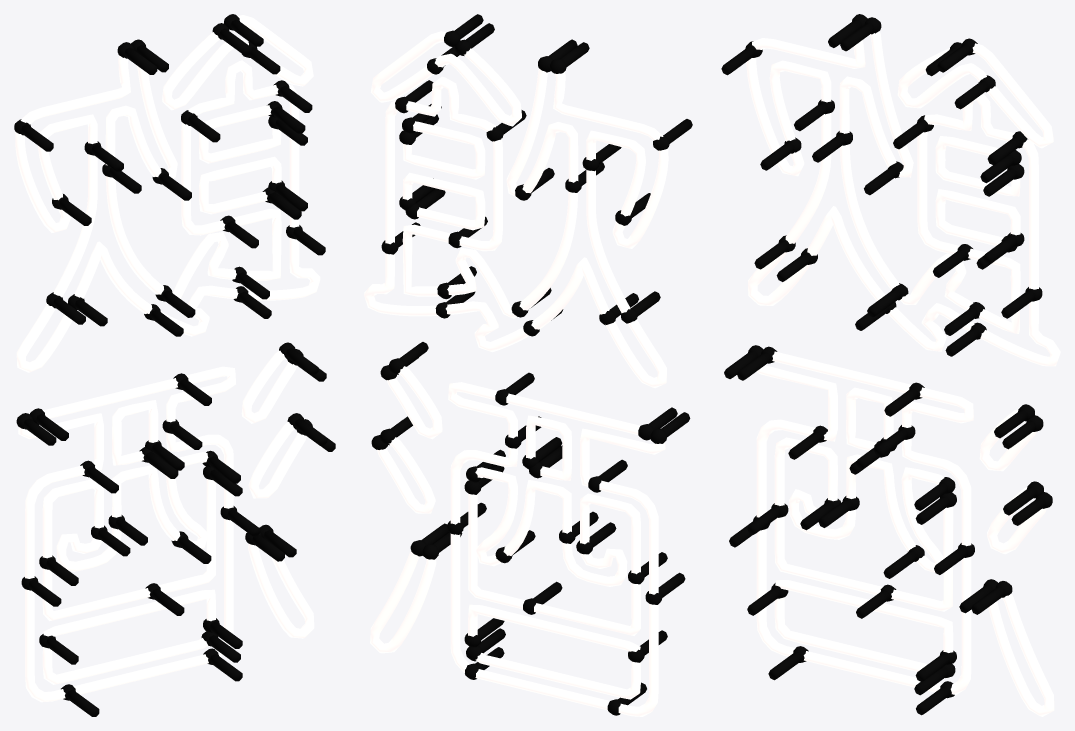
File: neon_insyu.fbx
The picture shows the model from 3 angles, left to right: view 1: azimuth 30°, elevation 25°; view 2: azimuth 150°, elevation 25°; view 3: azimuth 330°, elevation 25°; orthographic projection. The views are drawn at different scales.
Visible parts, largest first — view 1: NeonEnglish; view 2: NeonEnglish; view 3: NeonEnglish.
Part boxes in pixels (x1,y1,x2,y2): NeonEnglish: [14, 14, 335, 716]; NeonEnglish: [364, 14, 692, 716]; NeonEnglish: [721, 14, 1060, 716].
Size of the model in its own units: 122 by 247 by 21.29.
